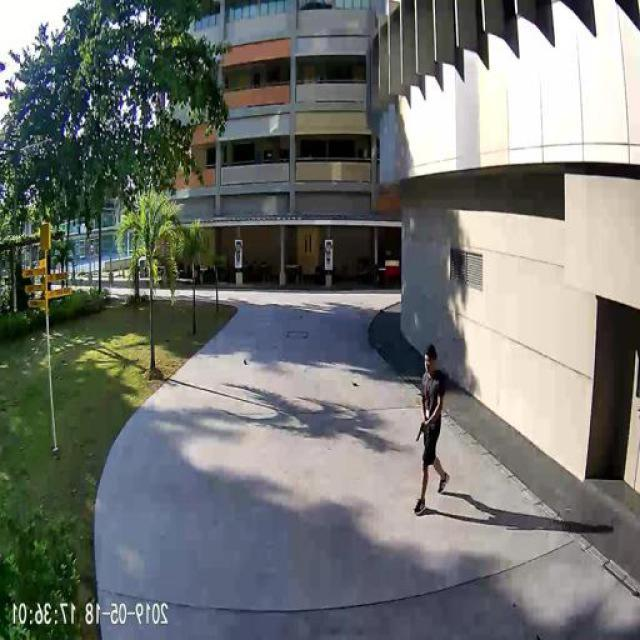weapon: (412, 424, 428, 443)
